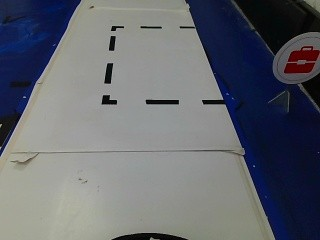company: (274, 32, 320, 86)
